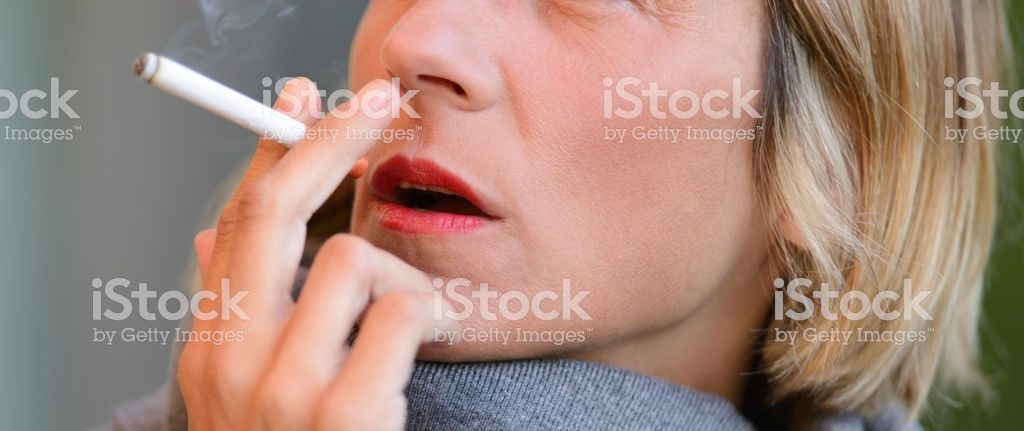sigaretta: (141, 55, 330, 155)
